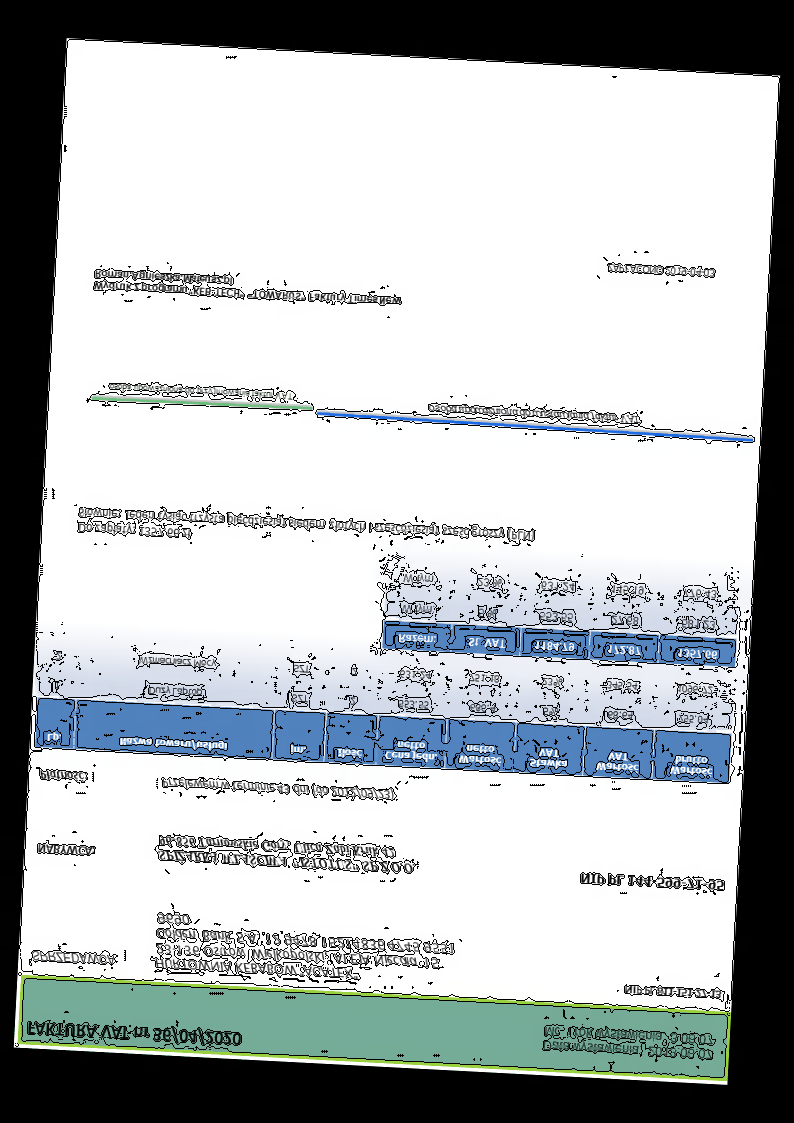Table: (33, 635, 736, 786), (381, 558, 740, 667)
TextBox: (75, 500, 537, 559), (151, 908, 457, 988), (92, 267, 404, 309), (155, 832, 418, 878), (539, 1021, 717, 1063), (24, 1017, 244, 1050), (158, 775, 395, 803), (425, 400, 643, 428), (108, 381, 295, 402), (577, 871, 725, 893), (604, 260, 717, 281), (29, 948, 119, 971), (621, 983, 723, 1002), (35, 841, 98, 859), (37, 767, 90, 786)
